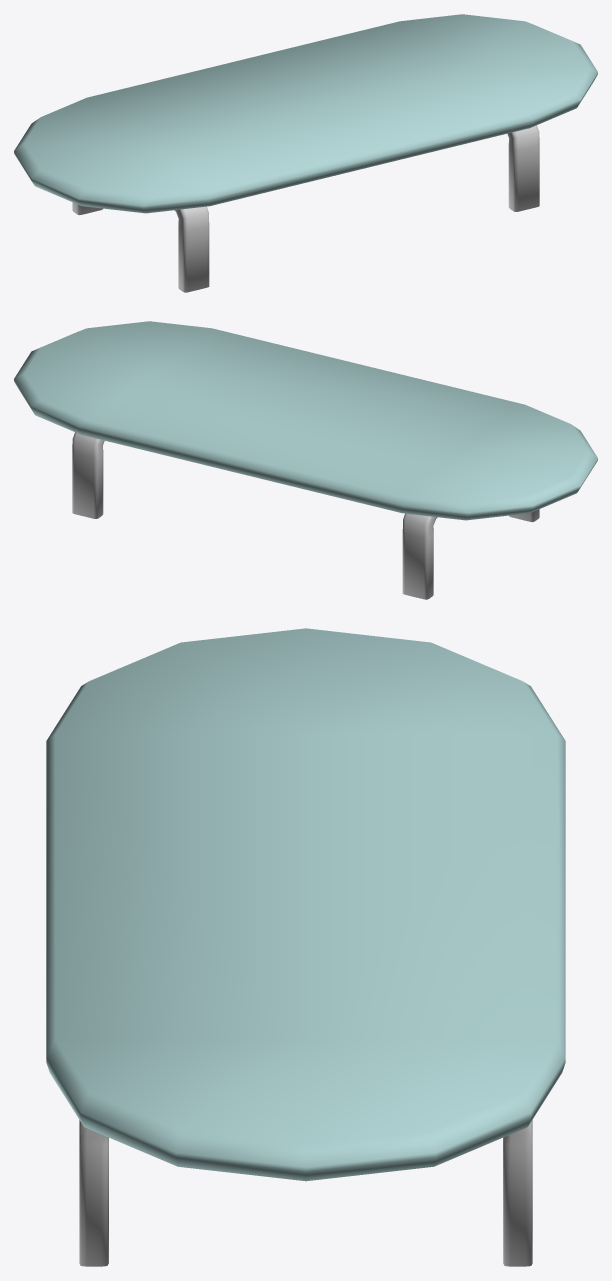
The model's file is glass_table_long.fbx.
The picture shows the model from 3 angles, top to bottom: view 1: azimuth 30°, elevation 25°; view 2: azimuth 150°, elevation 25°; view 3: azimuth 270°, elevation 25°; orthographic projection. The views are drawn at different scales.
Parts seen in each view (by area): view 1: tabletop, legs; view 2: tabletop, legs; view 3: tabletop, legs.
Part boxes in pixels (bbox=[...]): tabletop: bbox=[14, 14, 597, 213]; legs: bbox=[72, 125, 539, 292]; tabletop: bbox=[14, 321, 597, 520]; legs: bbox=[72, 432, 539, 599]; tabletop: bbox=[46, 628, 565, 1181]; legs: bbox=[79, 1120, 532, 1266].
Size of the model in its own units: 1115 by 200 by 456.
